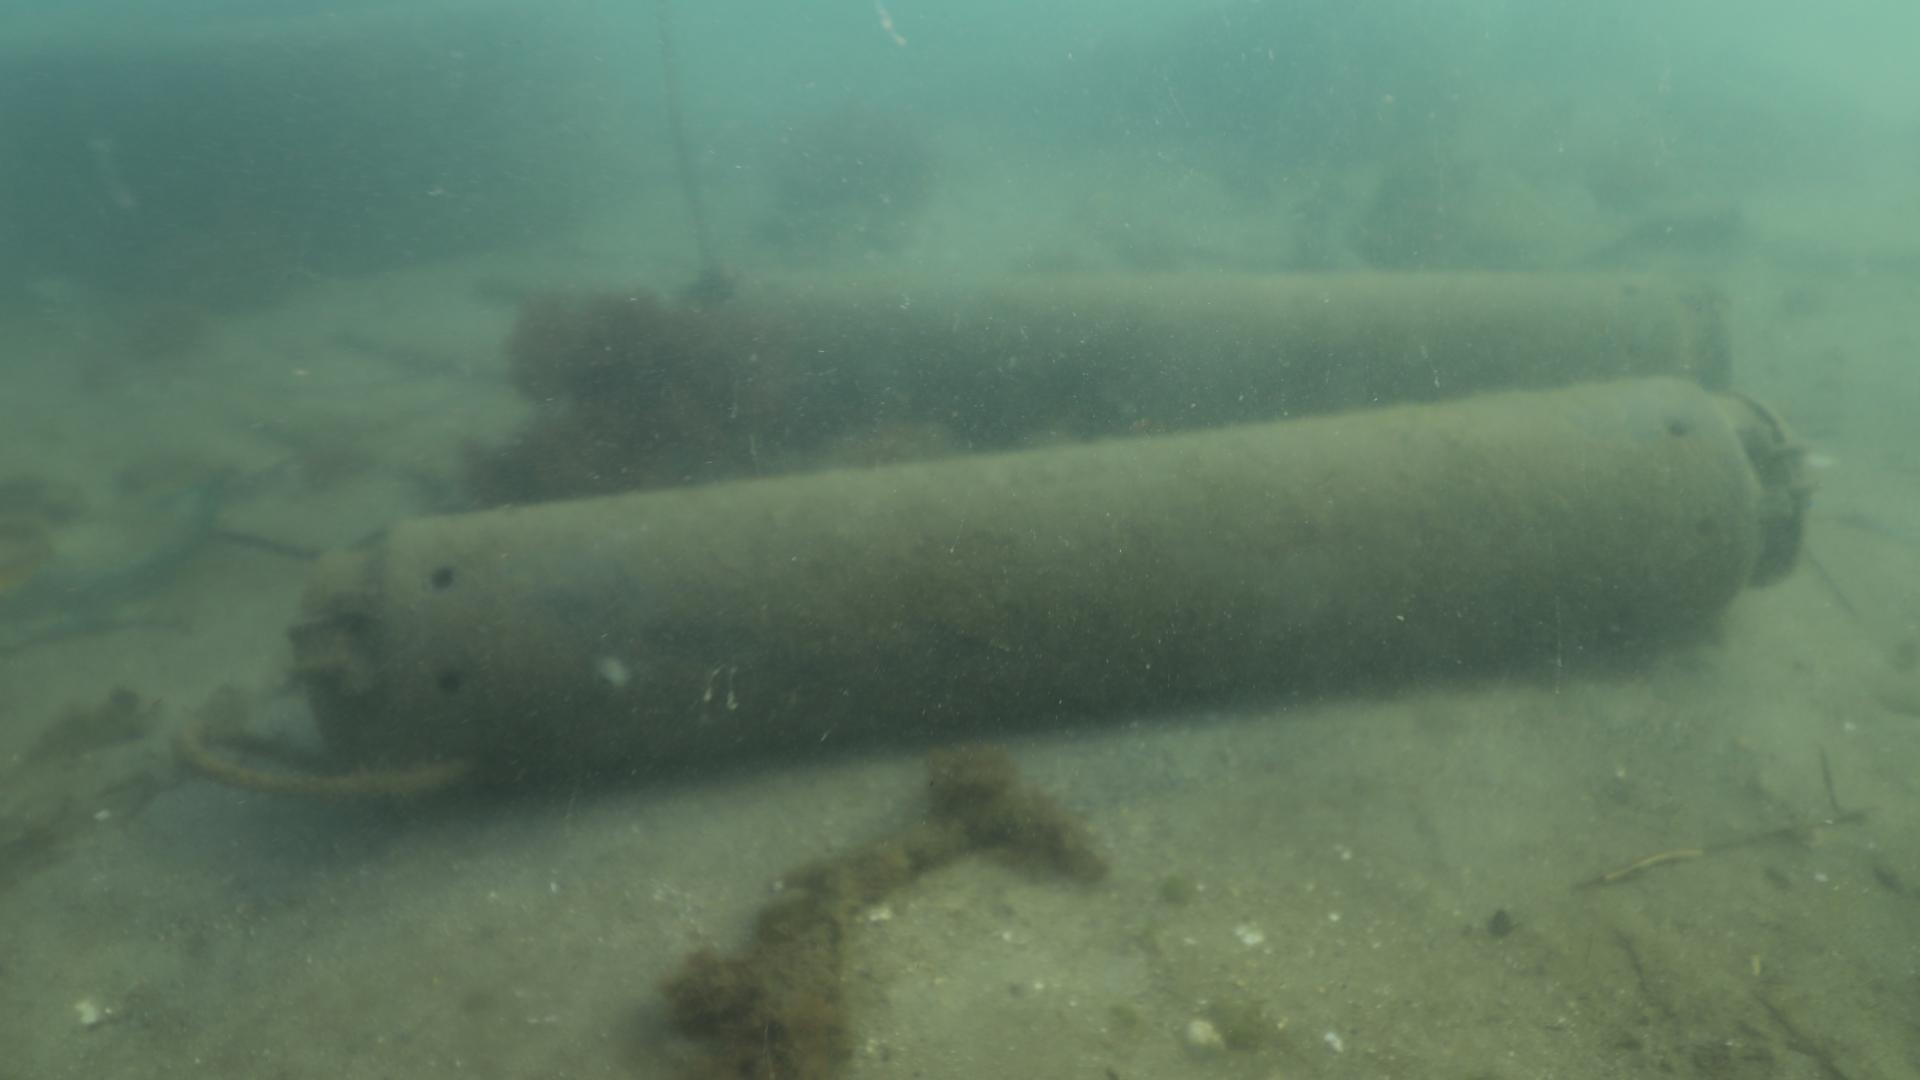eel fish trap: (284, 375, 1815, 779)
